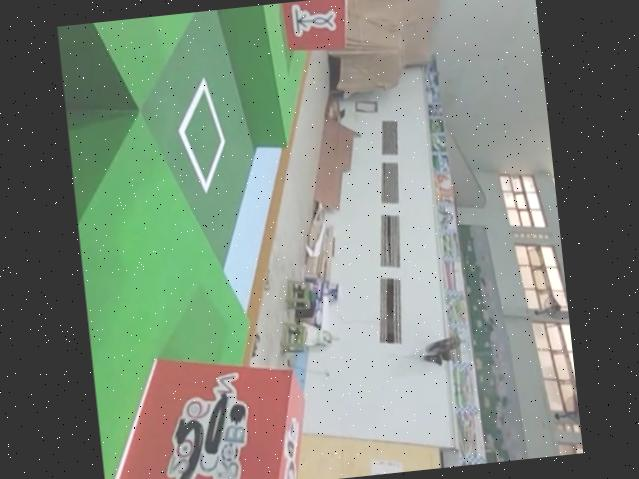R1: (92, 344, 312, 479)
R2 Real: (271, 0, 355, 55)
